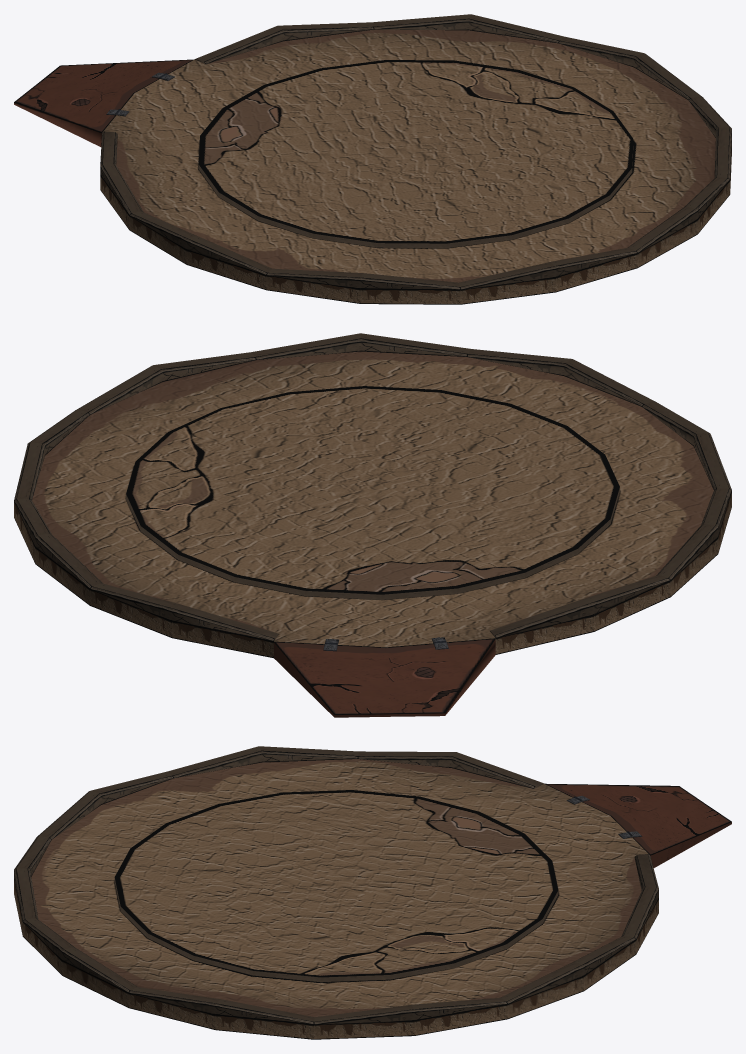
Rendered from DuelingGroundsBase.fbx.
The picture shows the model from 3 angles, top to bottom: view 1: azimuth 30°, elevation 25°; view 2: azimuth 150°, elevation 25°; view 3: azimuth 270°, elevation 25°; orthographic projection. The views are drawn at different scales.
Parts seen in each view (by area): view 1: Outer_Area; view 2: Outer_Area; view 3: Outer_Area.
Part boxes in pixels (box(x1,y1,x2,y2)): Outer_Area: box(14, 14, 731, 304); Outer_Area: box(14, 333, 731, 717); Outer_Area: box(14, 746, 731, 1039).
Bounding box in the file's own units: 4549 × 202 × 5063.
1 material, 1 textured.
